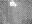person: (9, 1, 16, 6)
